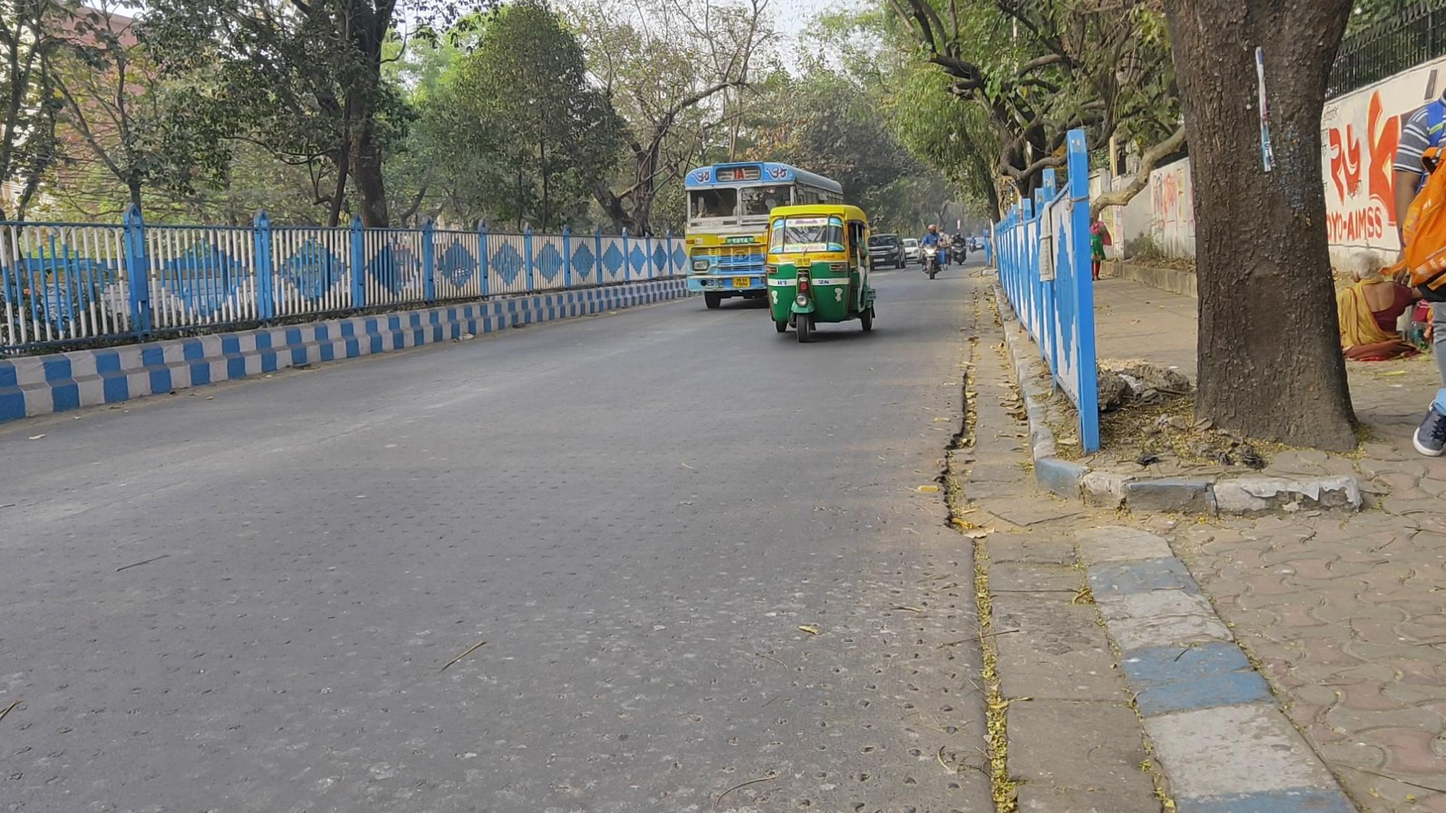Auto: (764, 203, 877, 343)
Bus: (684, 160, 843, 309)
bike: (917, 224, 945, 281), (950, 232, 968, 266)
car: (868, 233, 907, 270), (903, 237, 922, 263)
